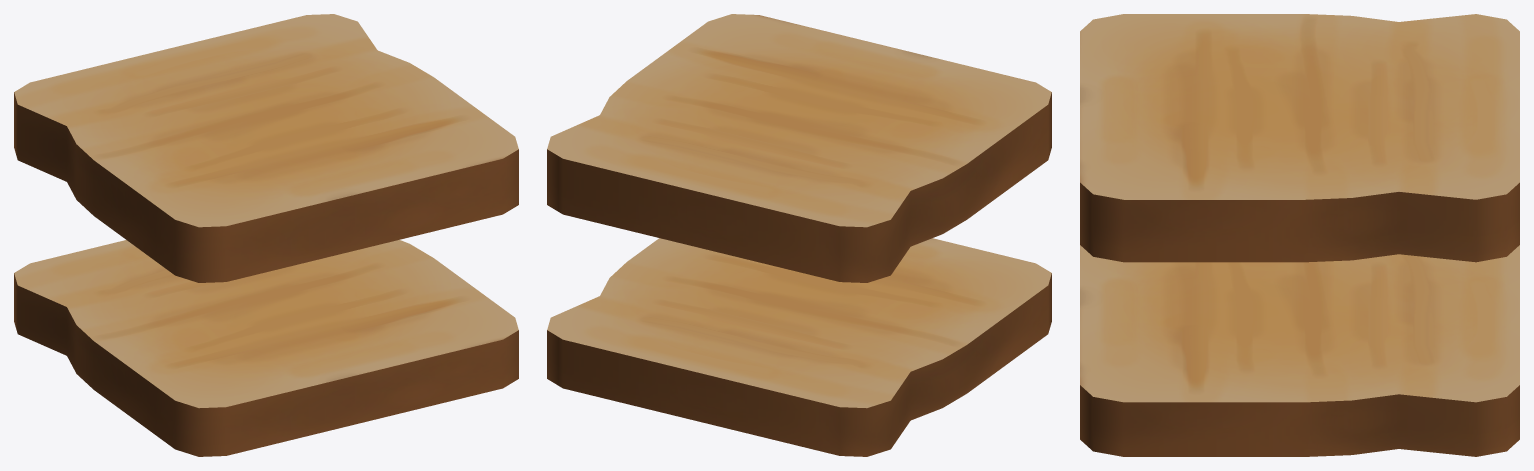
Rendered from sliced.glb.
3 renders of one model, left to right at view 1: azimuth 30°, elevation 25°; view 2: azimuth 150°, elevation 25°; view 3: azimuth 270°, elevation 25°, orthographic. The views are drawn at different scales.
Parts seen in each view (by area): view 1: whiteBread; view 2: whiteBread; view 3: whiteBread.
Part boxes in pixels (x1,y1,x2,y2): whiteBread: (14,14,518,456); whiteBread: (547,14,1051,456); whiteBread: (1080,14,1519,456).
Size of the model in its own units: 1.72 by 1.11 by 1.72.
Materials: 1 (1 with a texture image).
